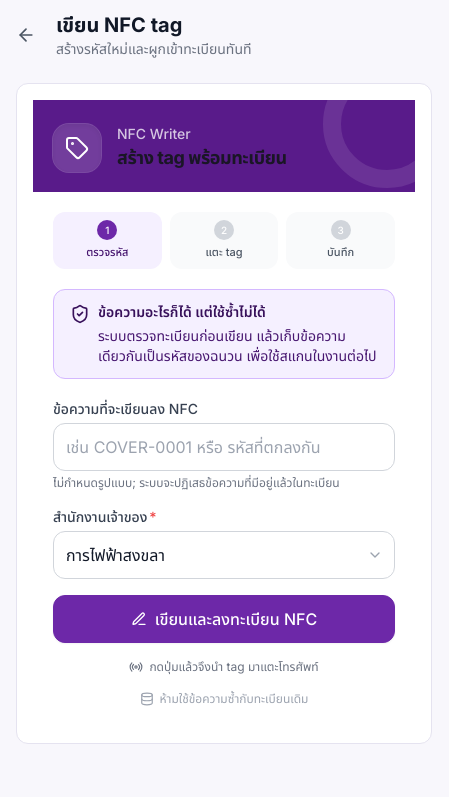
Scenario: WriteNfcPage — write and register (Flow 3) › refuses to write a code that already exists in the registry
This screenshot has width=449, height=797.
Step 1. Type "DUP-1" into the field labelled "ข้อความที่จะเขียนลง NFC" → coordinates (224, 446), box [53,422,395,470]
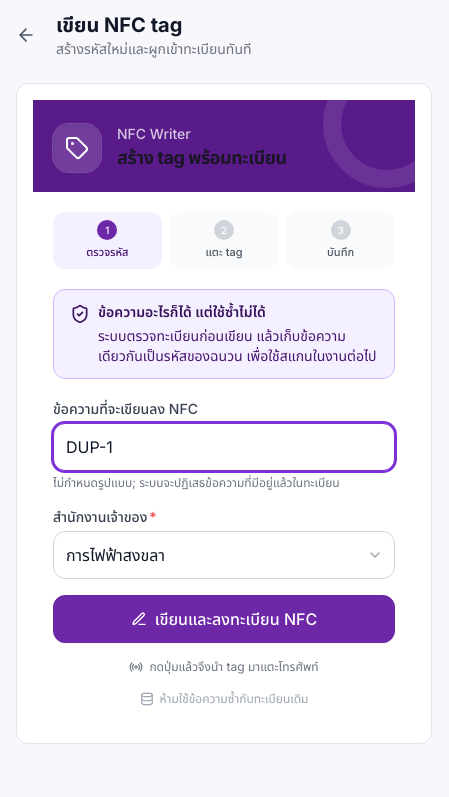
Step 2. Select "การไฟฟ้าสงขลา" in the dropdown labelled "สำนักงานเจ้าของ*" → coordinates (224, 554), box [53,530,395,578]
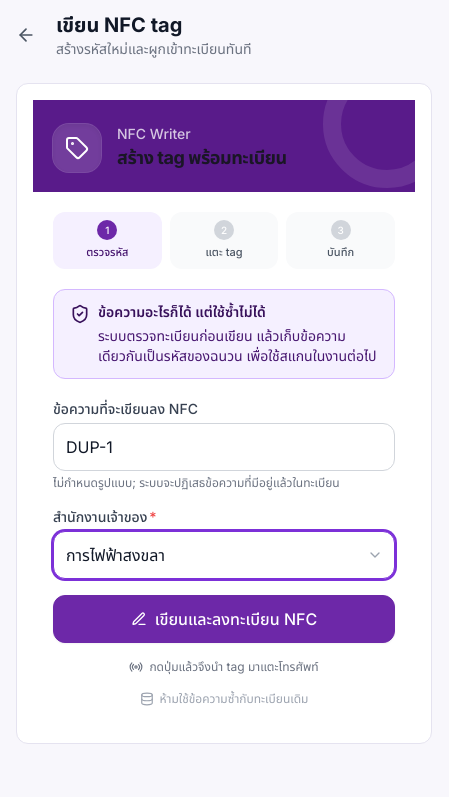
Step 3. Click the button "เขียนและลงทะเบียน NFC" → coordinates (224, 618), box [53,594,395,642]
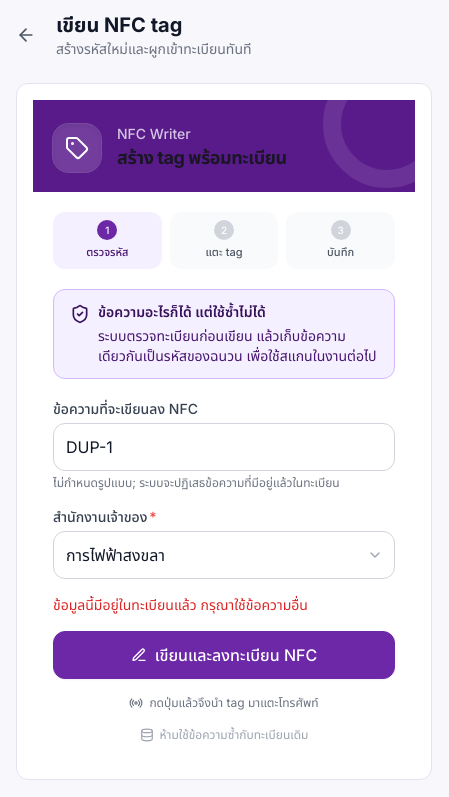
Expected: the message shows "มีอยู่ในทะเบียนแล้ว", [53,596,308,612]
